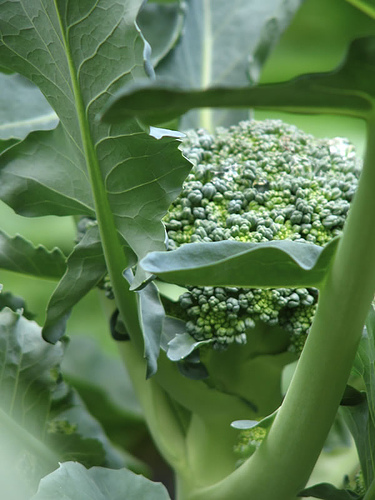broccoli: (163, 121, 357, 350)
